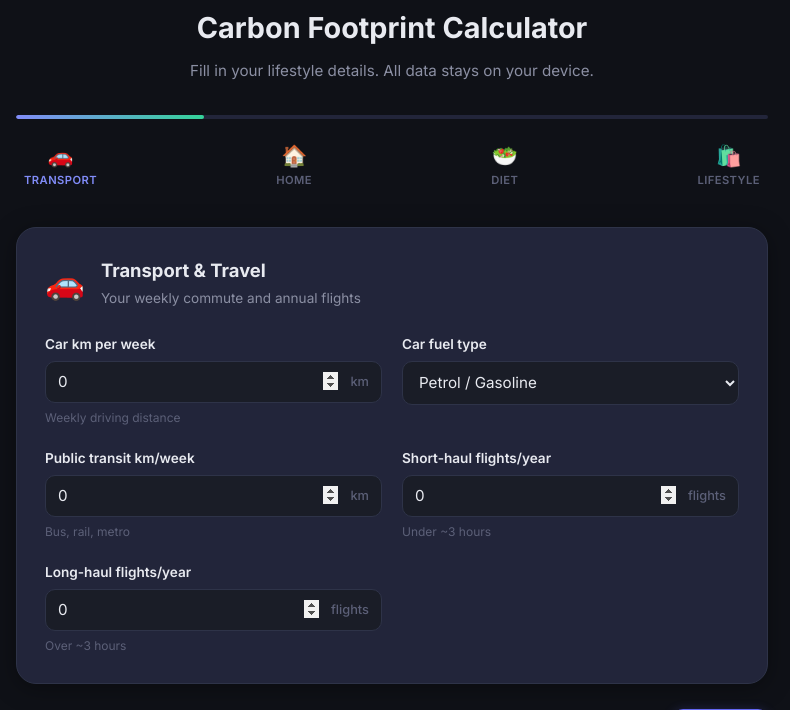
Test case: Calculator Component › displays all diet options
The width and height of the screenshot is (790, 710).
// Navigate to Diet step
Click the button with aria-label "Step 3" at (505, 165), box [483, 135, 526, 195]
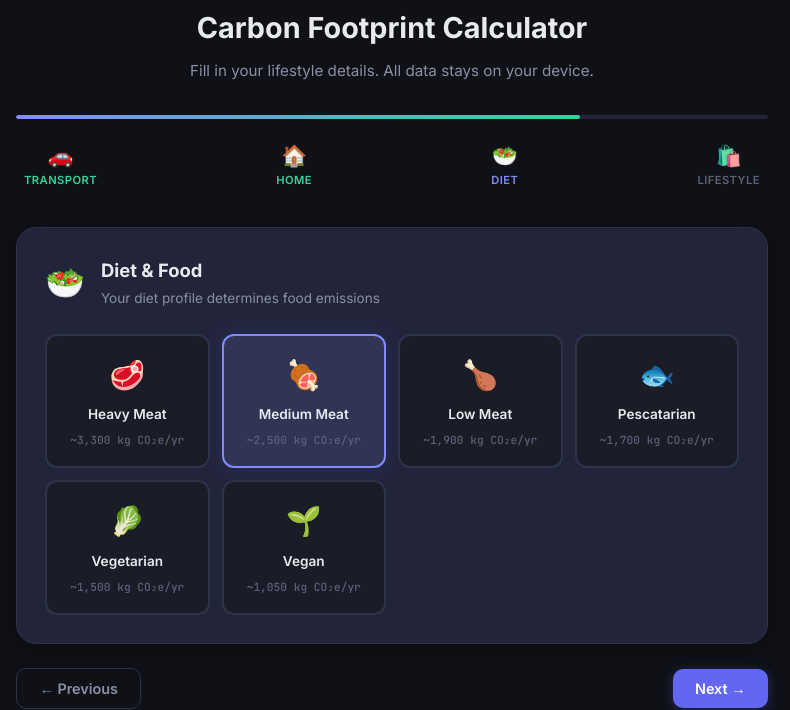
Check: the text "Heavy Meat" is shown, box [88, 404, 166, 426]
Check: the text "Medium Meat" is shown, box [259, 404, 349, 426]
Check: the text "Low Meat" is shown, box [448, 404, 512, 426]
